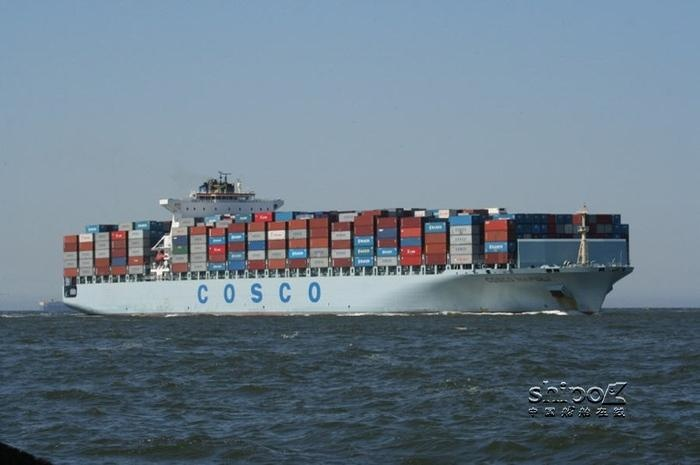Cargoship: (59, 170, 634, 323)
